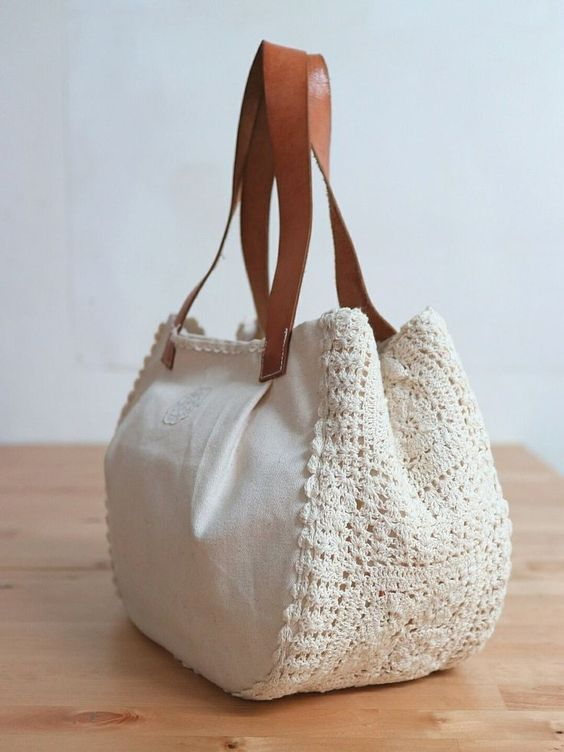cuero: (161, 40, 400, 383)
